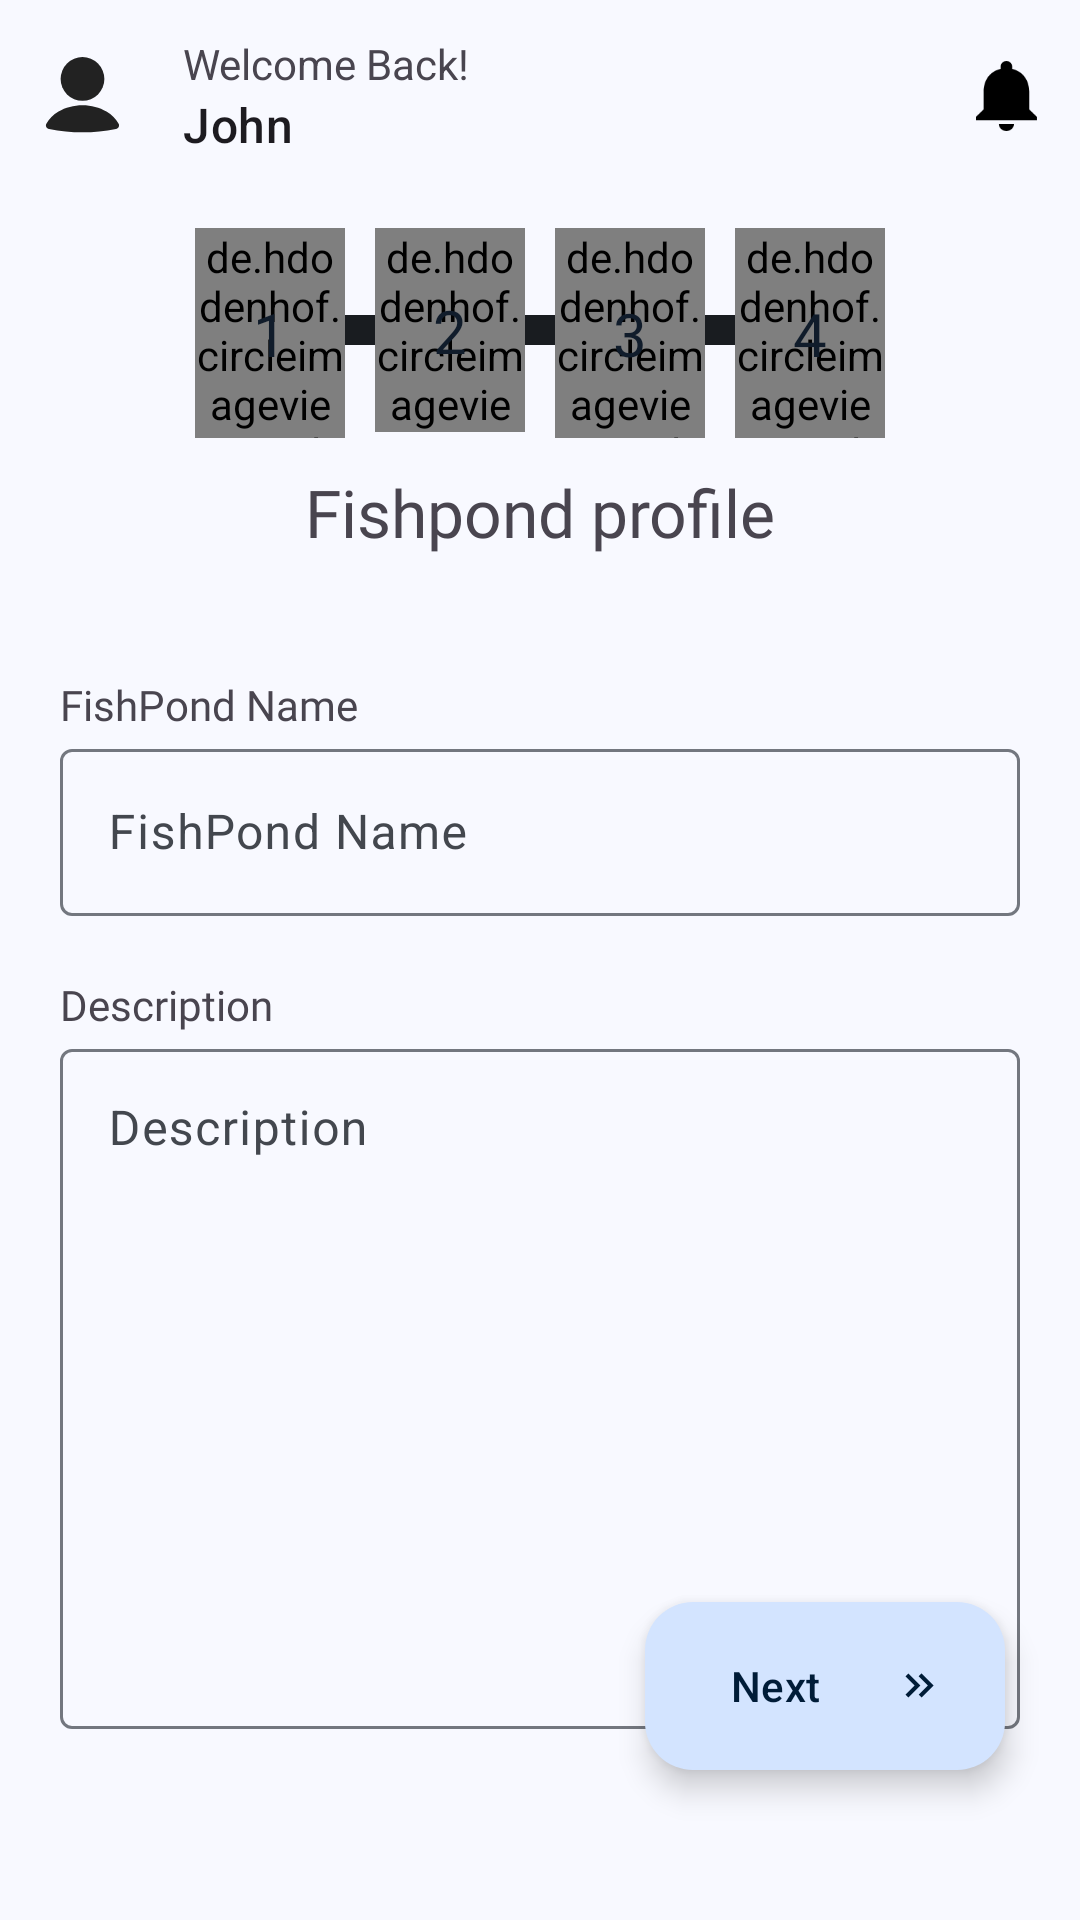

Locate icon controls on the screen. Image size 1080w x 1920h, boxes as region(x1, y1, x2, y2).
user: region(46, 57, 119, 133)
